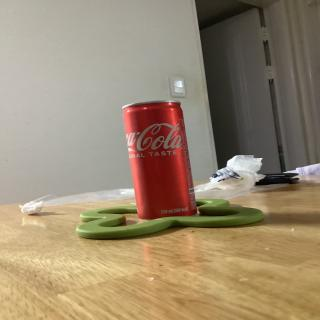cocacola: (118, 96, 202, 222)
